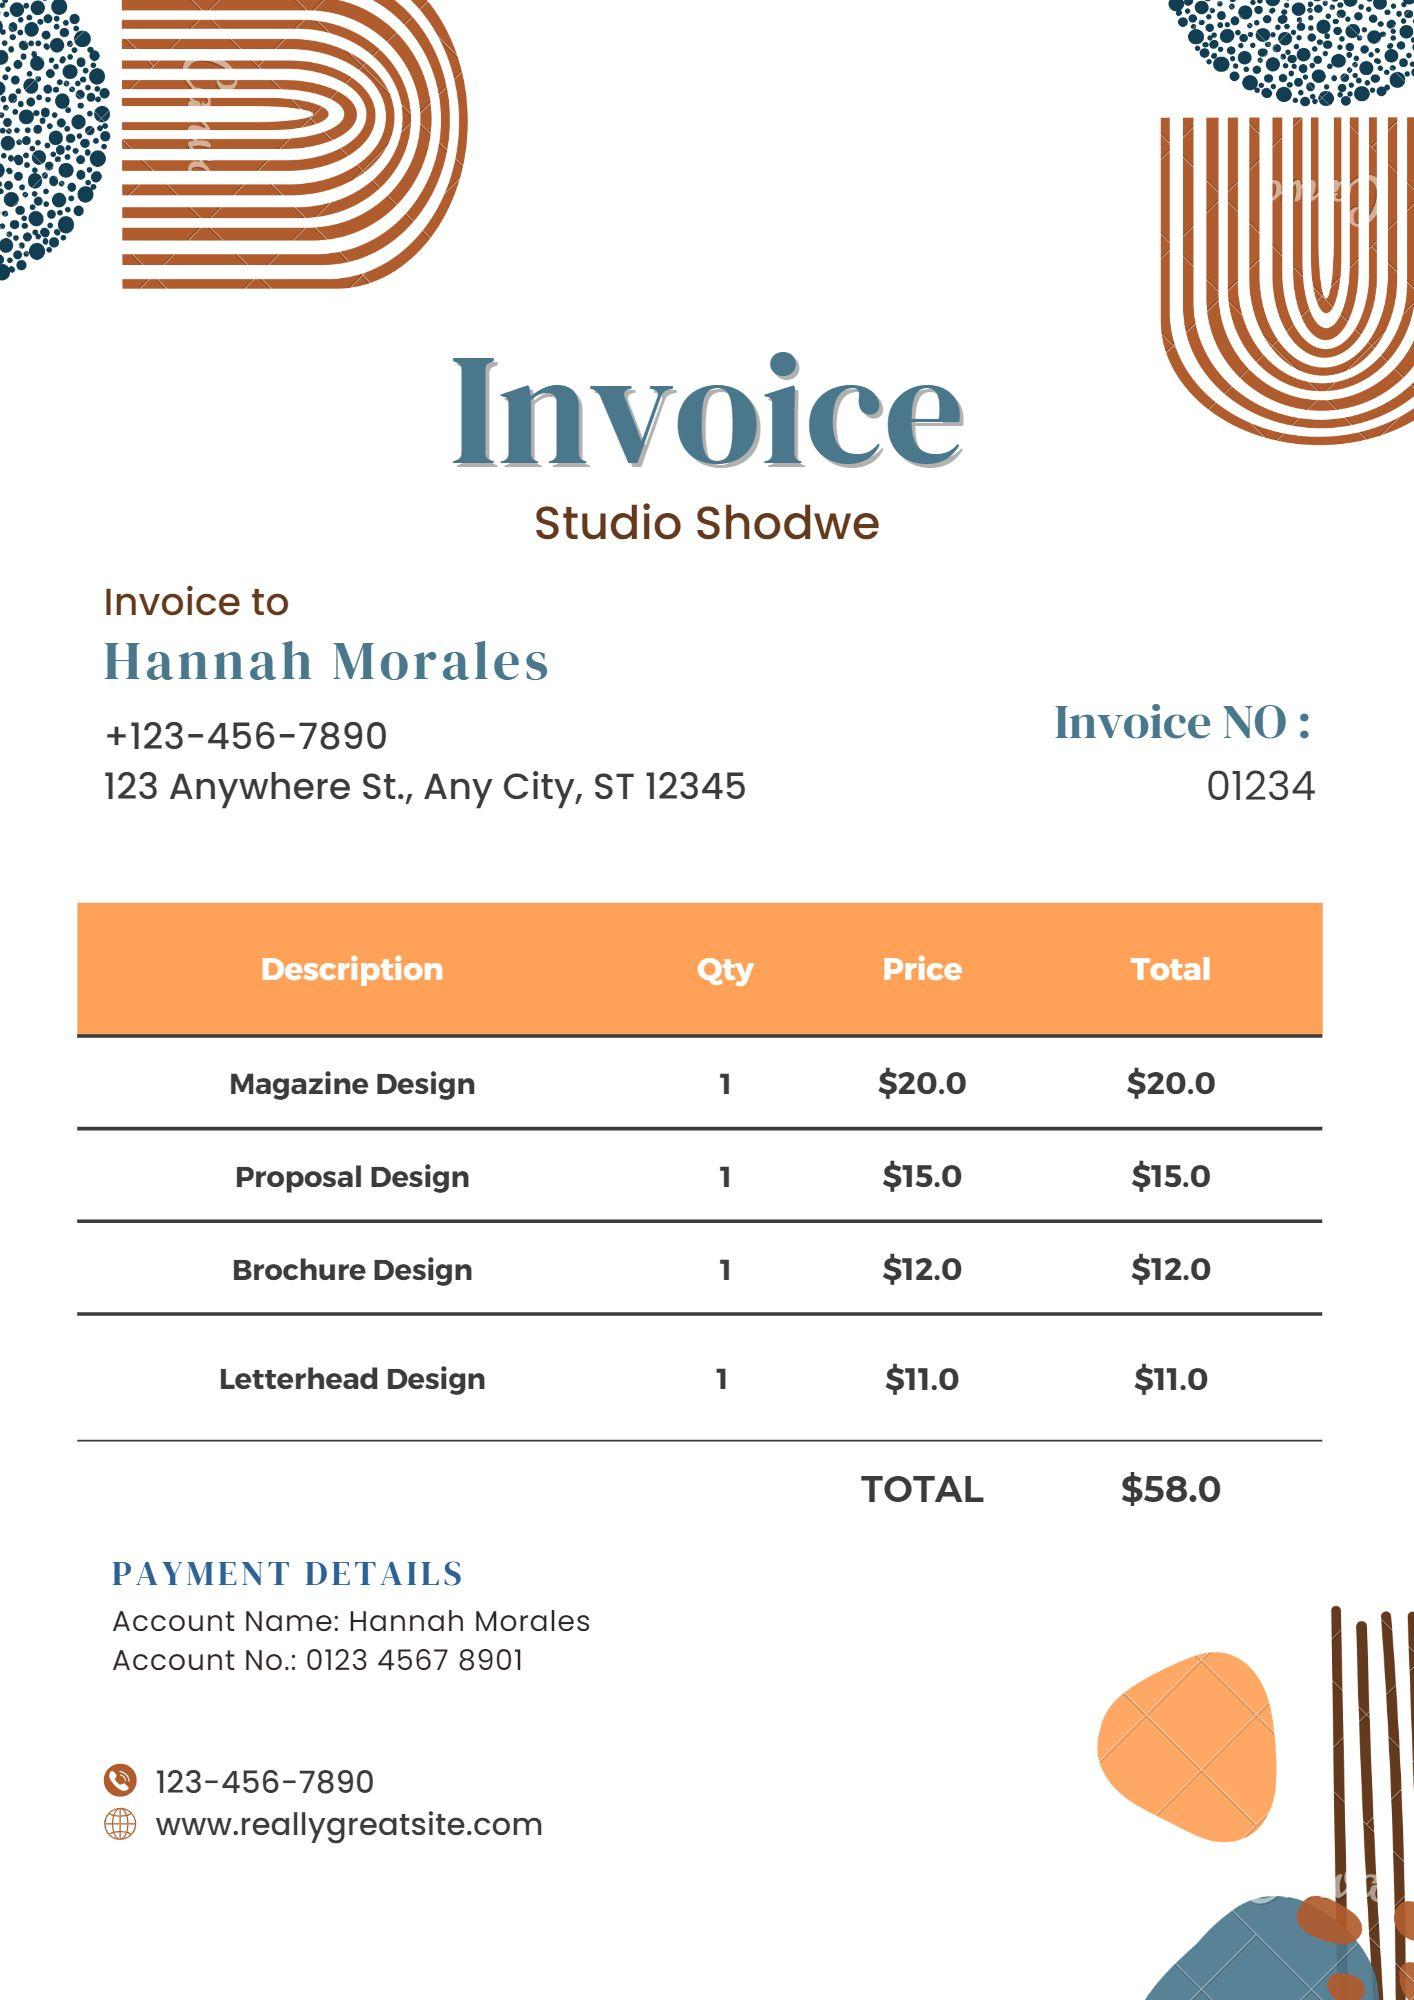ROI: (69, 894, 1334, 1454)
